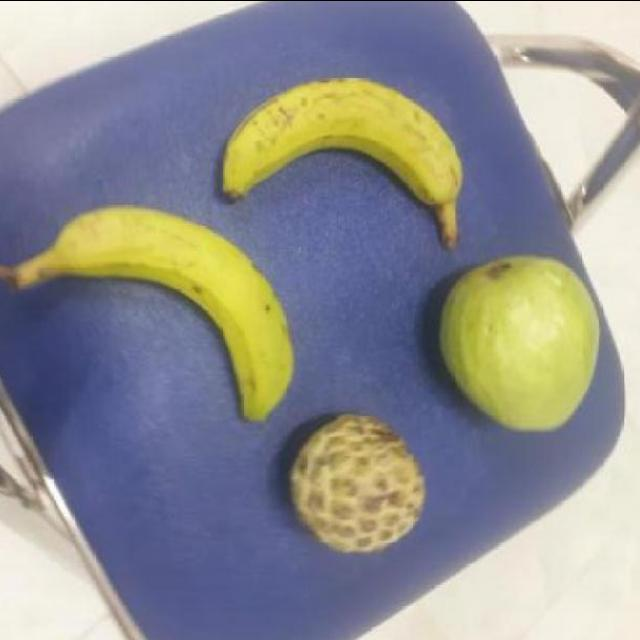banana: (29, 210, 290, 436), (226, 77, 462, 250)
guava: (436, 256, 604, 436), (286, 415, 428, 566)
sugar apple: (288, 416, 426, 560)
